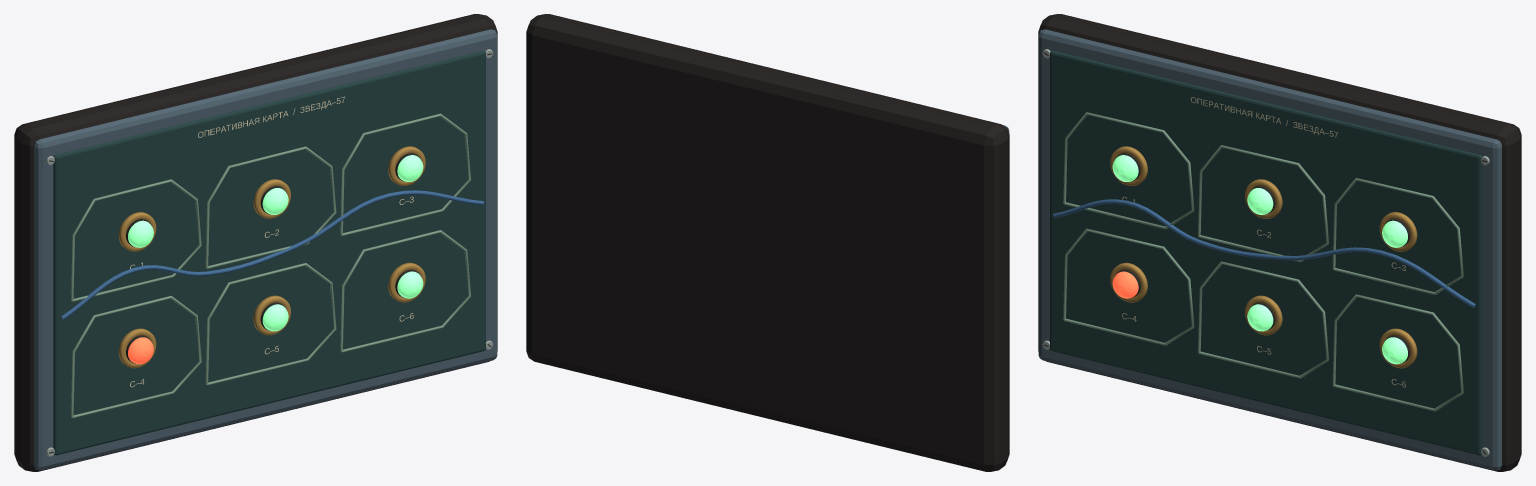
File: IlluminatedSectorMap.fbx
3 views of the same model, side by side, from view 1: azimuth 30°, elevation 25°; view 2: azimuth 150°, elevation 25°; view 3: azimuth 330°, elevation 25° (orthographic).
Parts seen in each view (by area): view 1: Map insert, Enamel bezel, Rear housing, River course, Border sector 5, Border sector 6, Border sector 4, Border sector 3, Border sector 1, Border sector 2, Lamp bezel 5, Lamp bezel 4 (+10 smaller); view 2: Rear housing; view 3: Map insert, Enamel bezel, Rear housing, River course, Border sector 4, Border sector 5, Border sector 6, Border sector 3, Border sector 1, Border sector 2, Lamp bezel 5, Lamp bezel 6 (+10 smaller).
Part boxes in pixels (x1,y1,x2,y2): Map insert: (53,50,485,455); Enamel bezel: (34,29,497,470); Rear housing: (14,14,497,471); River course: (61,190,483,319); Border sector 5: (205,263,336,385); Border sector 6: (340,230,471,352); Border sector 4: (70,295,201,418); Border sector 3: (340,113,471,236); Border sector 1: (70,179,201,301); Border sector 2: (205,146,336,269); Lamp bezel 5: (253,295,290,335); Lamp bezel 4: (118,328,156,368); Rear housing: (526,14,1009,471); Map insert: (1050,50,1482,455); Enamel bezel: (1038,29,1501,470); Rear housing: (1038,14,1521,471); River course: (1053,199,1475,307); Border sector 4: (1063,228,1194,345); Border sector 5: (1197,261,1329,378); Border sector 6: (1332,294,1463,411); Border sector 3: (1332,178,1463,294); Border sector 1: (1063,112,1194,229); Border sector 2: (1197,145,1329,262); Lamp bezel 5: (1245,295,1282,335); Lamp bezel 6: (1379,328,1417,368).
Size of the model in its own units: 1.62 by 1.12 by 0.1997.
